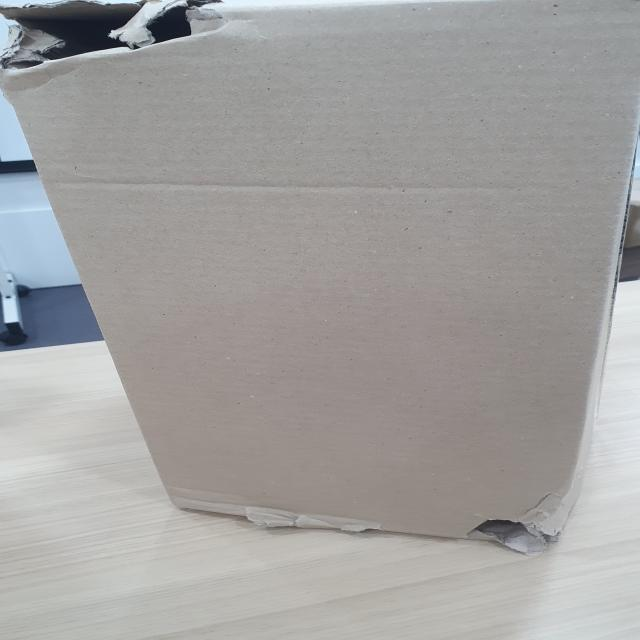hole: (0, 1, 246, 81), (449, 489, 571, 551)
